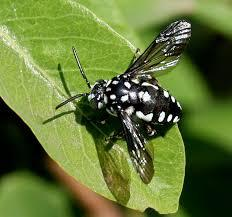Thyreus: (58, 10, 198, 178)
